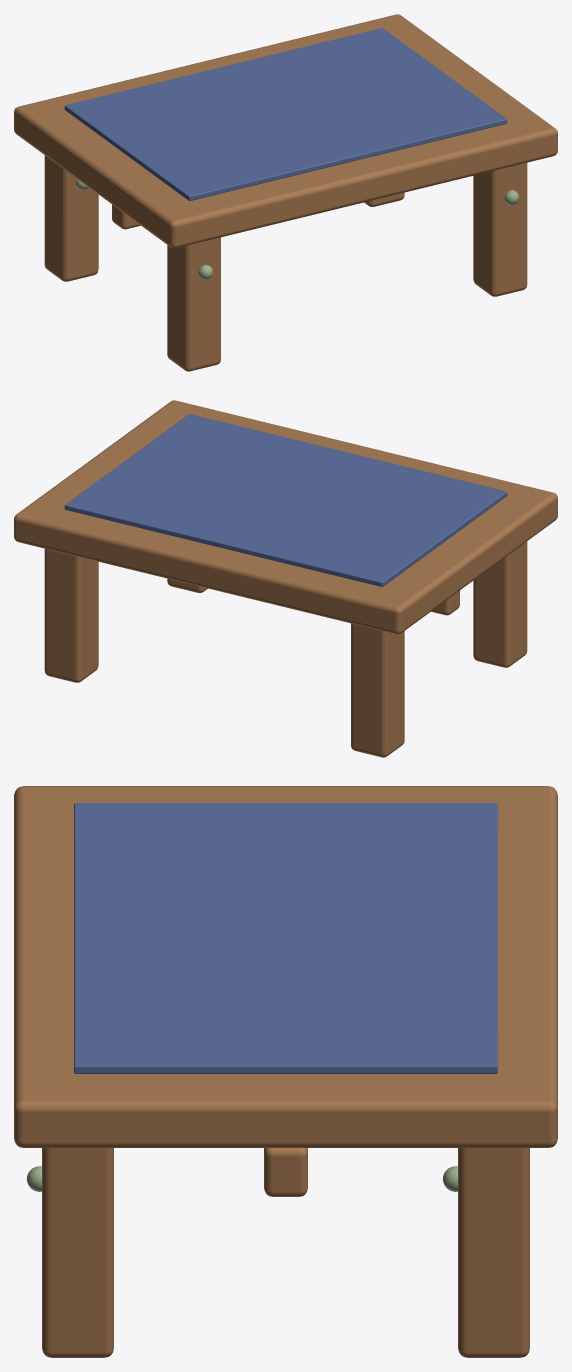
File: desert-caravanserai-and-bazaar-low-tea-table-e5a43bfd__30482.glb
The picture shows the model from 3 angles, top to bottom: view 1: azimuth 30°, elevation 25°; view 2: azimuth 150°, elevation 25°; view 3: azimuth 270°, elevation 25°; orthographic projection. The views are drawn at different scales.
Visible parts, largest first — view 1: low-tea-table; view 2: low-tea-table; view 3: low-tea-table.
Part boxes in pixels (box(x1,y1,x2,y2)): low-tea-table: box(14, 14, 557, 371); low-tea-table: box(14, 400, 557, 757); low-tea-table: box(14, 786, 557, 1357).
Bounding box in the file's own units: 0.95 × 0.393 × 0.68.
